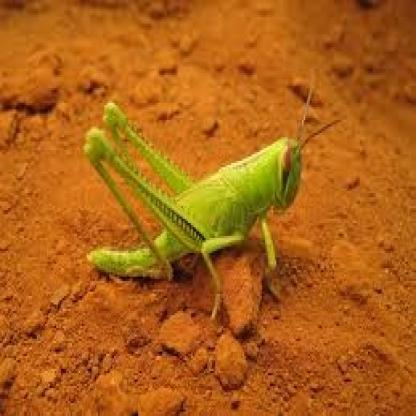grasshopper: (78, 98, 336, 306)
